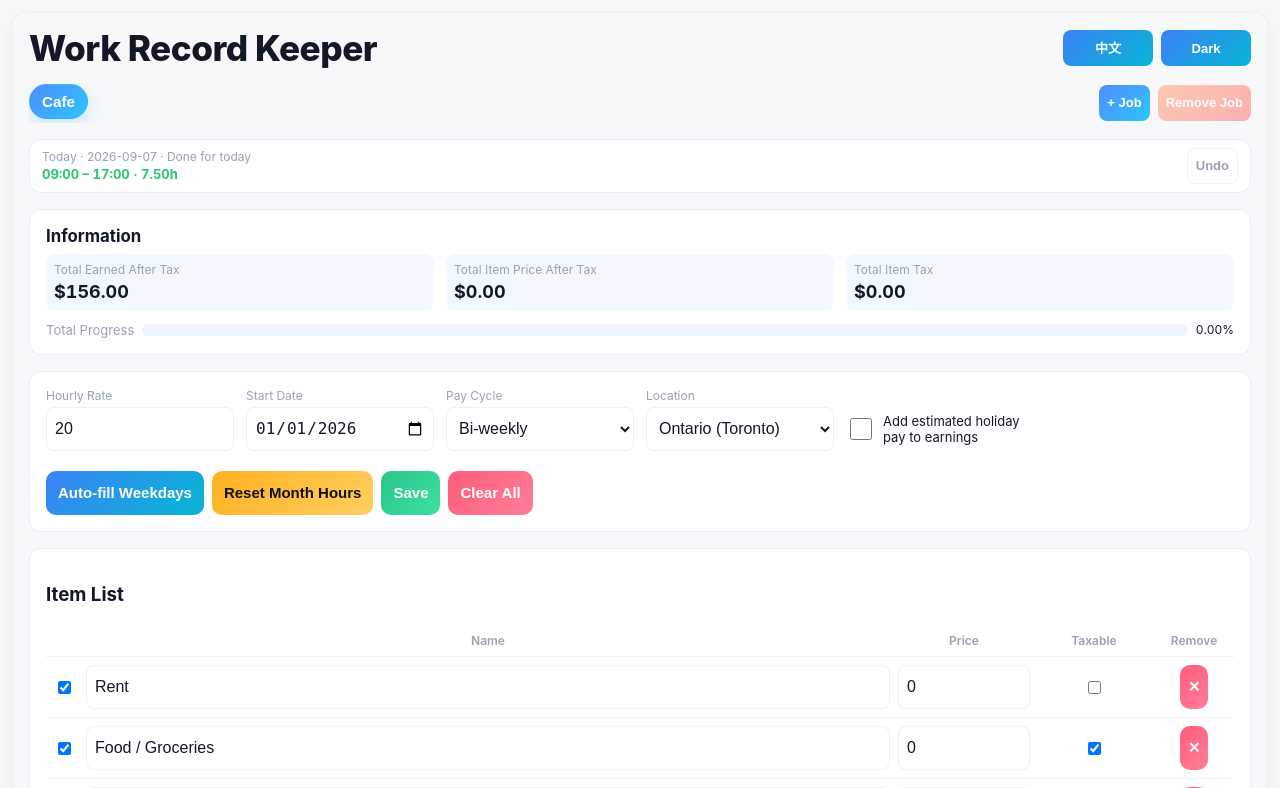
Scenario: undo steps a finished day back to its check out
Step 1. Click the button with class "check-undo" → (1212, 166), box [1187,148,1238,184]
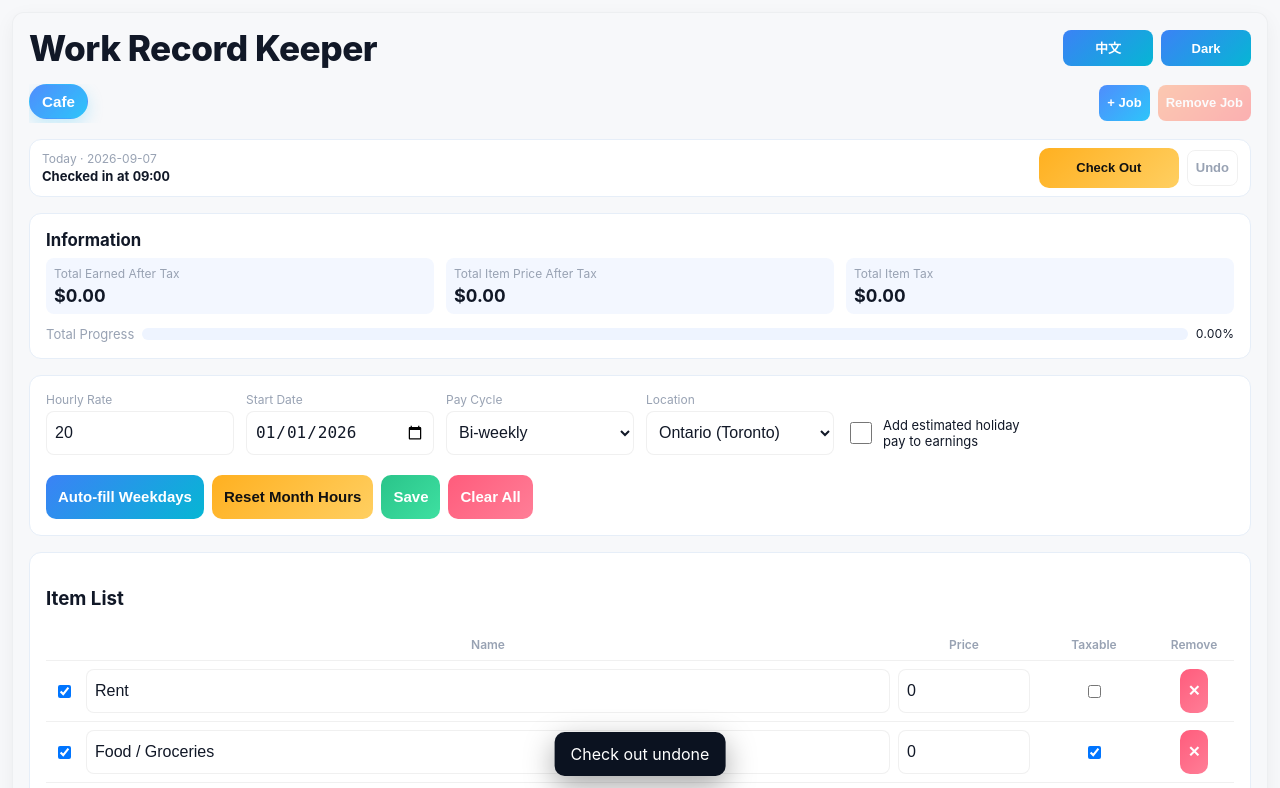
Expected: the button with class "check-btn" reads "Check Out", [1039,148,1179,188]
